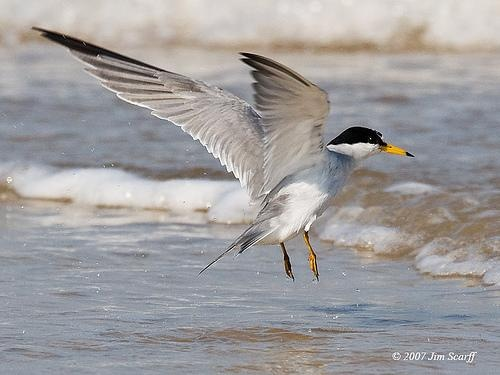bird: (22, 19, 415, 282)
